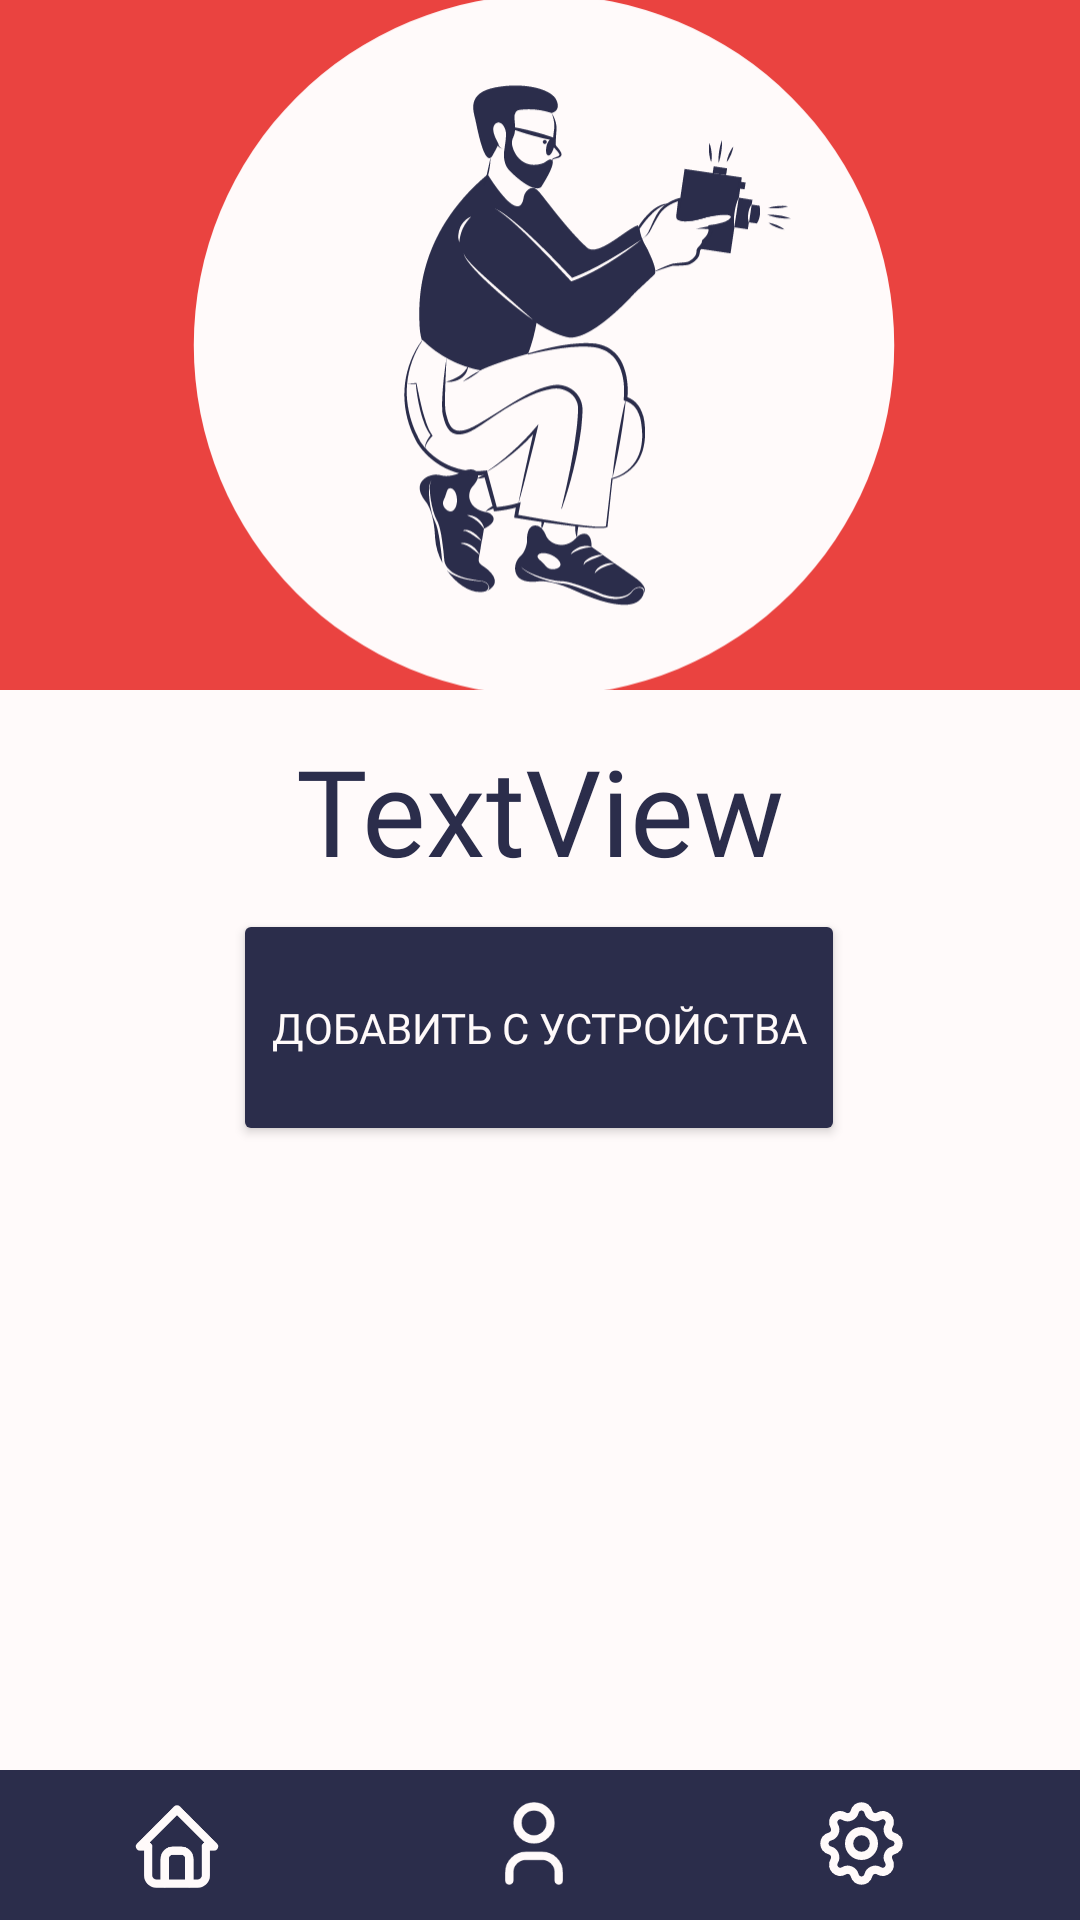

Icon click points for this 1080x1920 phone screenshot, format [x,y]:
home: [177,1846]
settings: [861,1843]
user: [534,1843]
